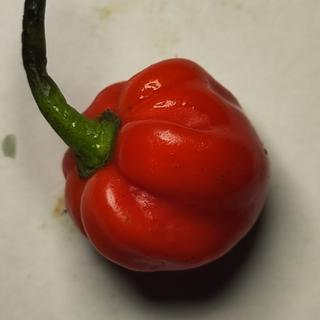Grade-B: (53, 54, 271, 276)
